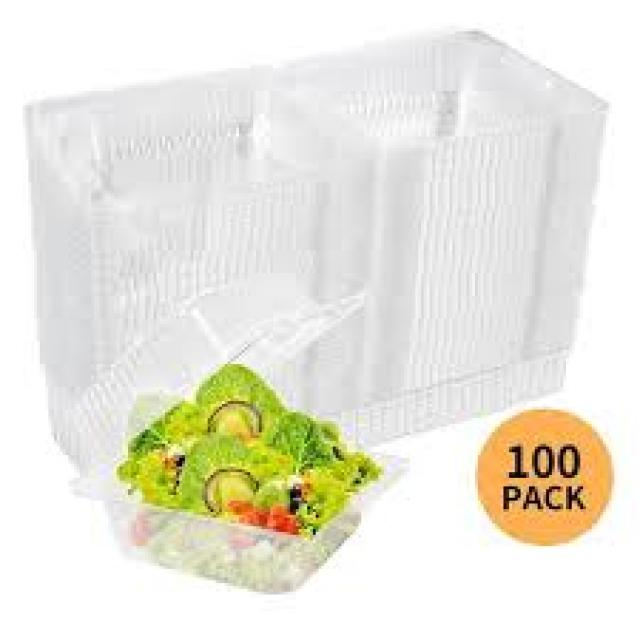disposable: (70, 361, 415, 590)
